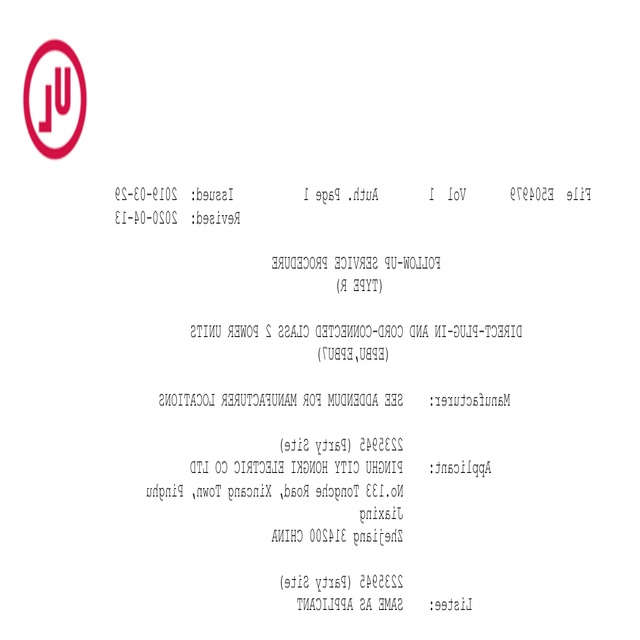ul: (22, 38, 88, 163)
